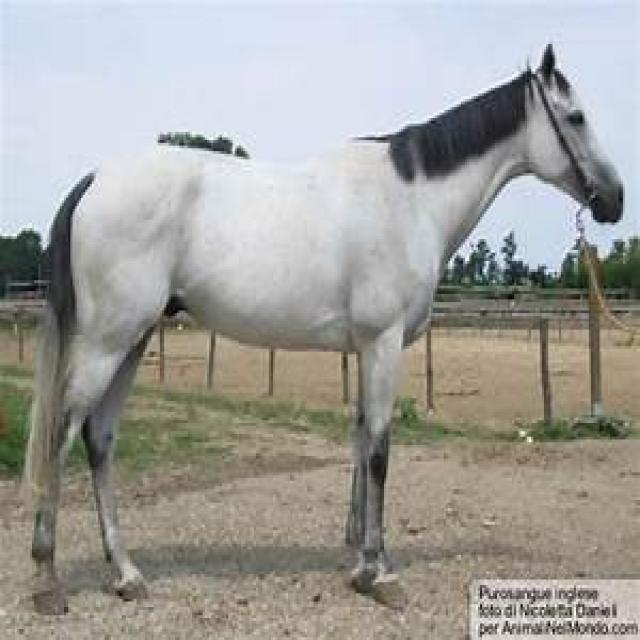horse: (29, 47, 622, 596)
